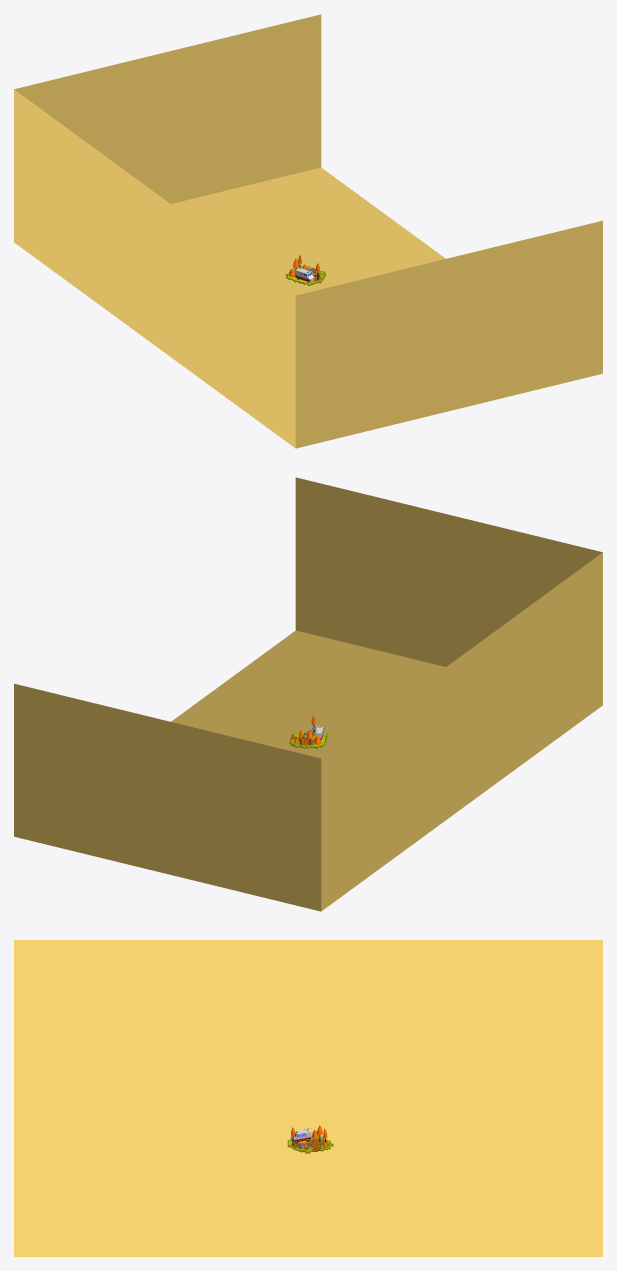
The model's file is portfolio-v1.glb.
3 renders of one model, top to bottom at view 1: azimuth 30°, elevation 25°; view 2: azimuth 150°, elevation 25°; view 3: azimuth 270°, elevation 25°, orthographic. The views are drawn at different scales.
Parts seen in each view (by area): view 1: Plane.008; view 2: Plane.008; view 3: Plane.008, Plane.002.
Boxes of the visible parts, x1,y1,x2,y2 form: Plane.008: (14,14,602,448); Plane.008: (14,477,602,911); Plane.008: (14,940,602,1256); Plane.002: (287,1135,333,1153).
Size of the model in its own units: 189 by 89.89 by 300.
71 materials, 5 textured.
